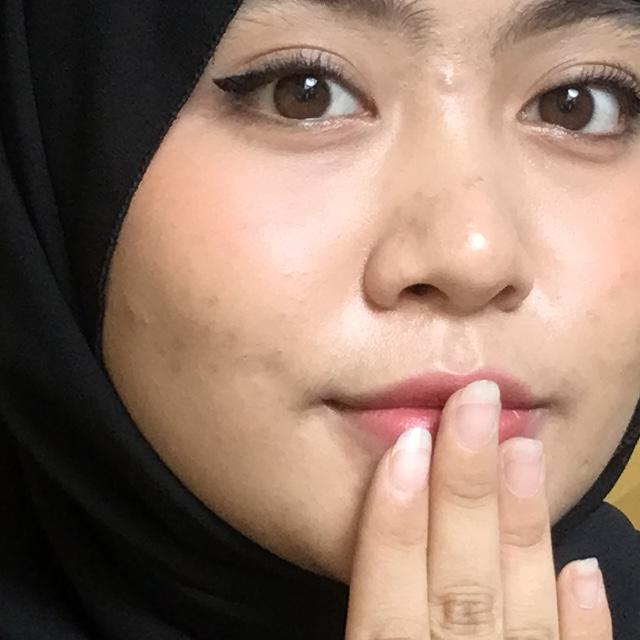ganteng: (195, 341, 640, 640)
